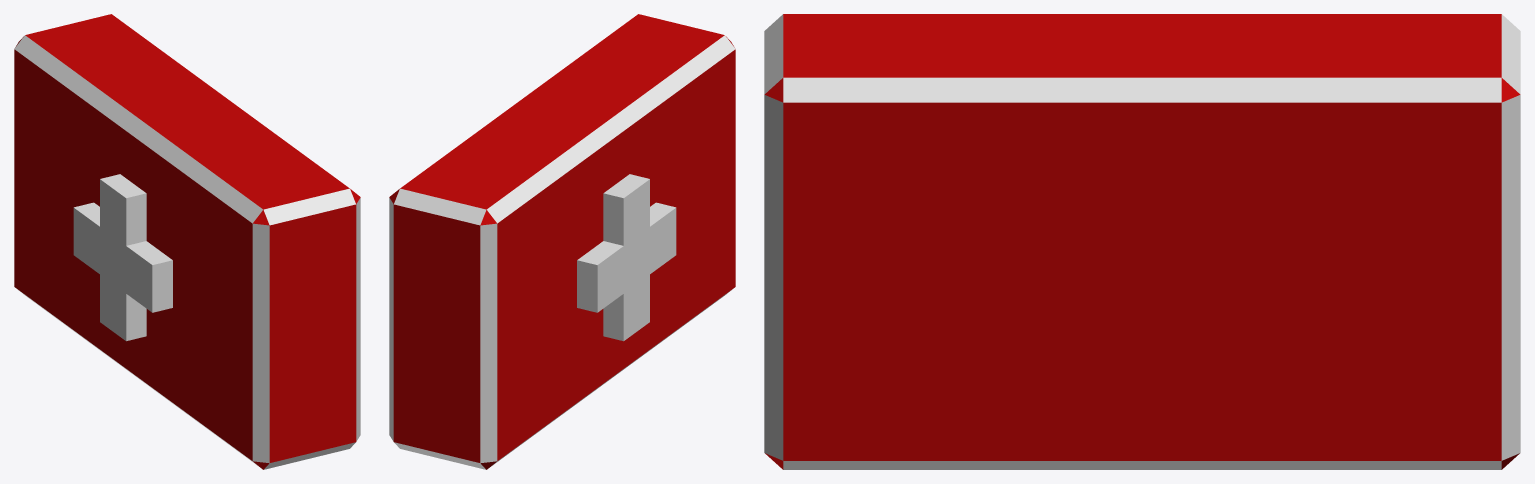
Rendered from Worms_Medipack.fbx.
3 renders of one model, left to right at view 1: azimuth 30°, elevation 25°; view 2: azimuth 150°, elevation 25°; view 3: azimuth 270°, elevation 25°, orthographic. The views are drawn at different scales.
Visible parts, largest first — view 1: Worms_Medipack1; view 2: Worms_Medipack1; view 3: Worms_Medipack1.
Part boxes in pixels (x1,y1,x2,y2): Worms_Medipack1: [14, 14, 360, 469]; Worms_Medipack1: [389, 14, 735, 469]; Worms_Medipack1: [764, 14, 1520, 469].
Bounding box in the file's own units: 0.6726 × 1.3 × 2.27.
